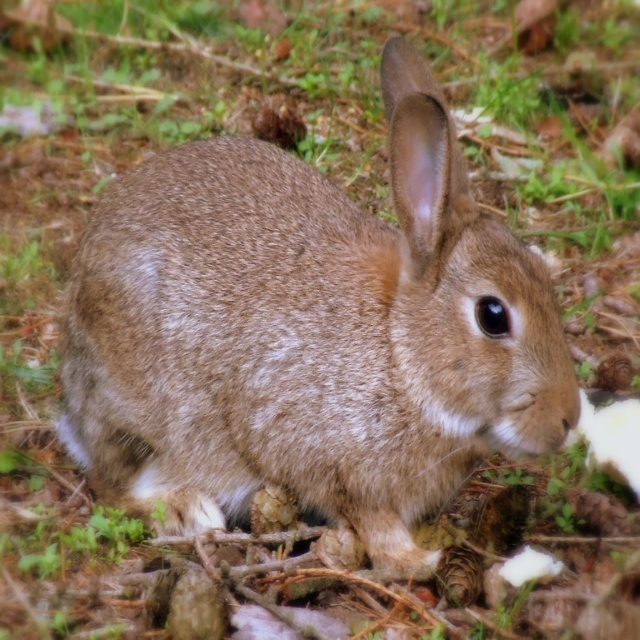Rabbit: (46, 37, 581, 579)
